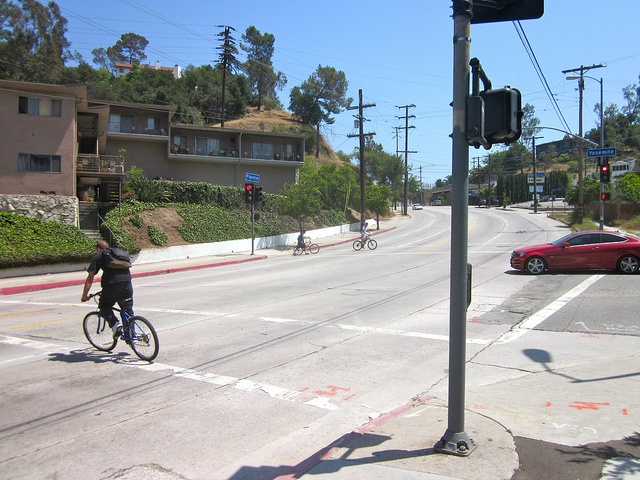non-vehicle: (81, 279, 158, 359), (293, 238, 319, 255), (352, 235, 377, 250)
